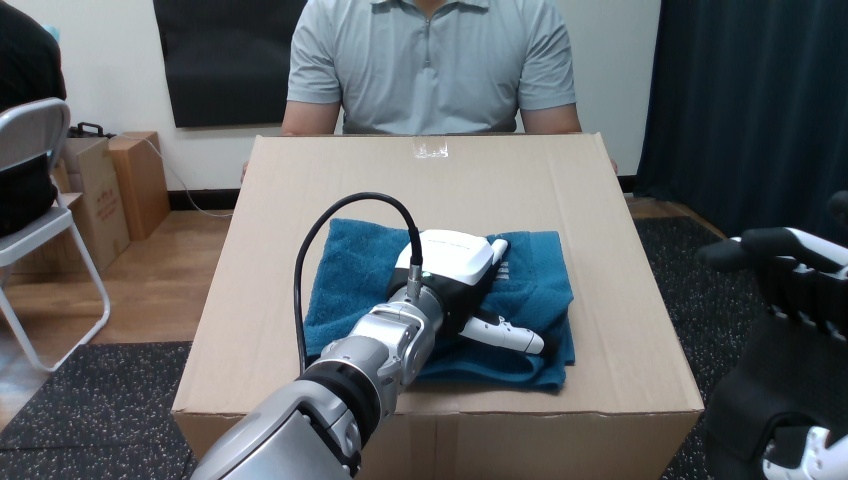left robot arm: (193, 230, 543, 478)
left robot hand: (192, 192, 544, 479), (193, 230, 543, 478), (300, 199, 411, 366)
right robot arm: (193, 230, 543, 478)
right robot hand: (192, 192, 544, 479), (300, 199, 411, 366)
